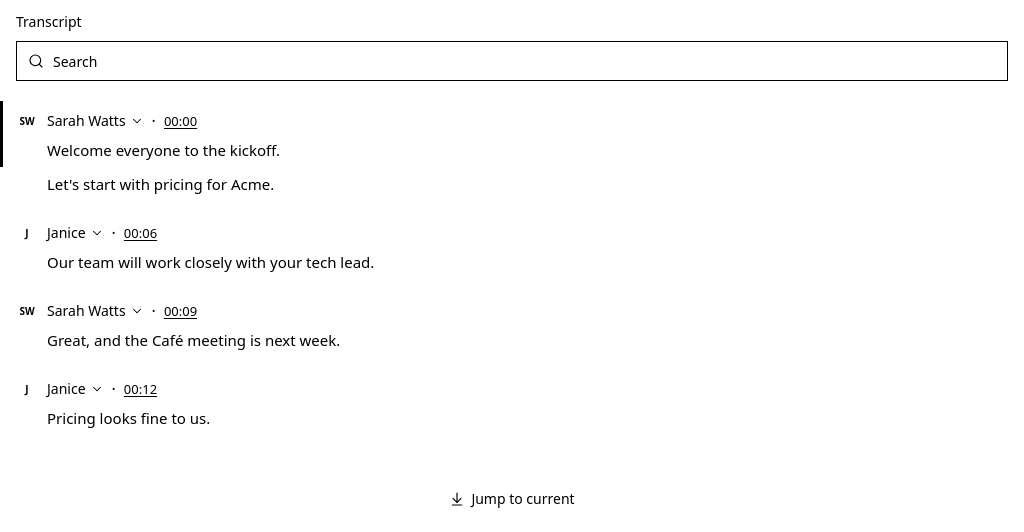
Test: TranscriptPanel › choosing a match resumes auto-follow, hiding the Jump to current pill
Expected: the text "Welcome everyone to the kickoff." is shown, x1=47 y1=140 x2=280 y2=160
Expected: the button "Jump to current" is shown, x1=437 y1=483 x2=587 y2=515
In the search field named "Search transcript": (512, 61) x1=16 y1=41 x2=1008 y2=81, type "pricing"
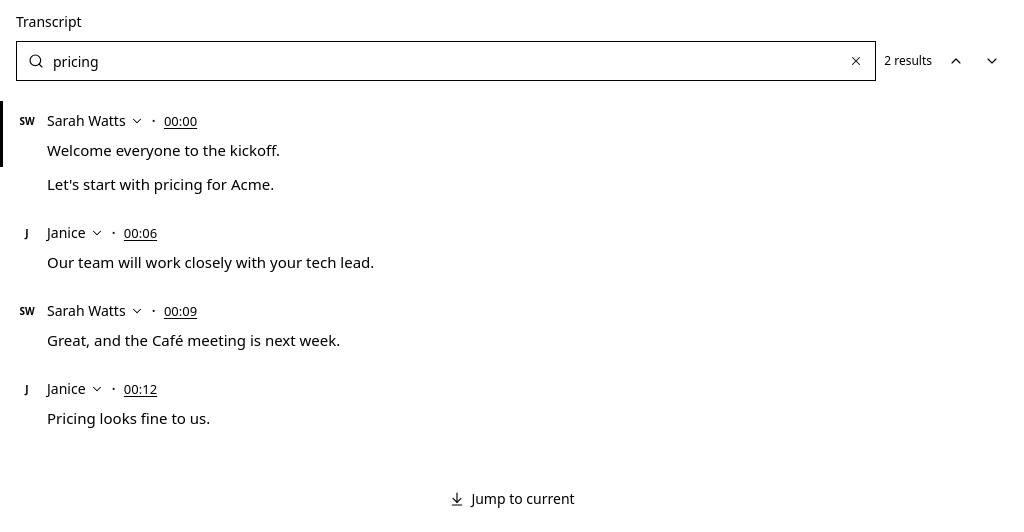
Now the message reads "2 results", box x1=884 y1=52 x2=932 y2=69
Press Enter in the search field named "Search transcript", box x1=16 y1=41 x2=876 y2=81
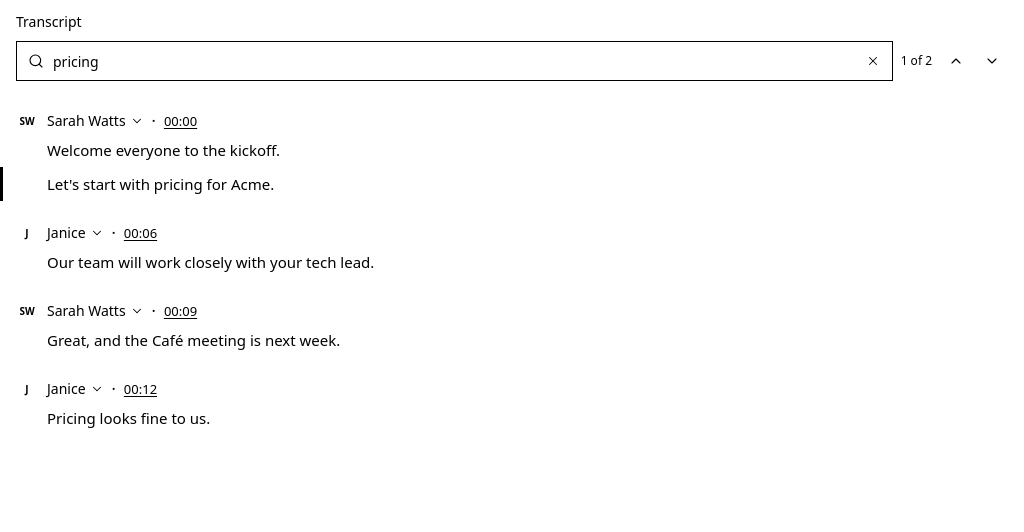
Now the button "Jump to current" is gone
